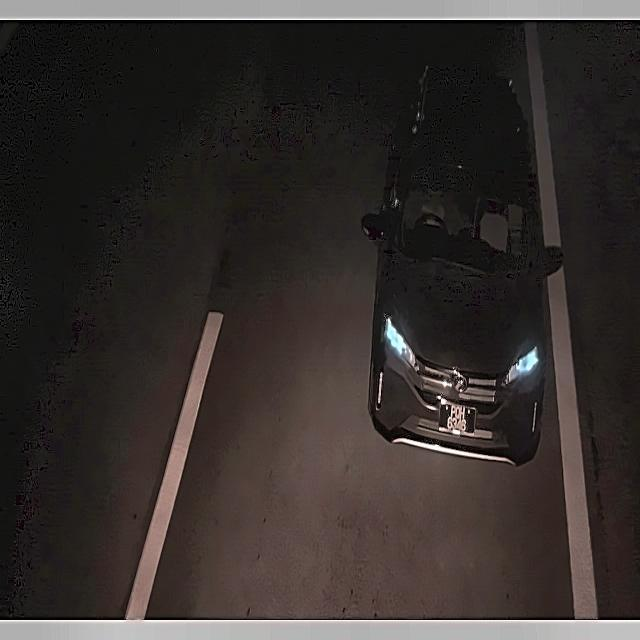car: (433, 395, 483, 439)
